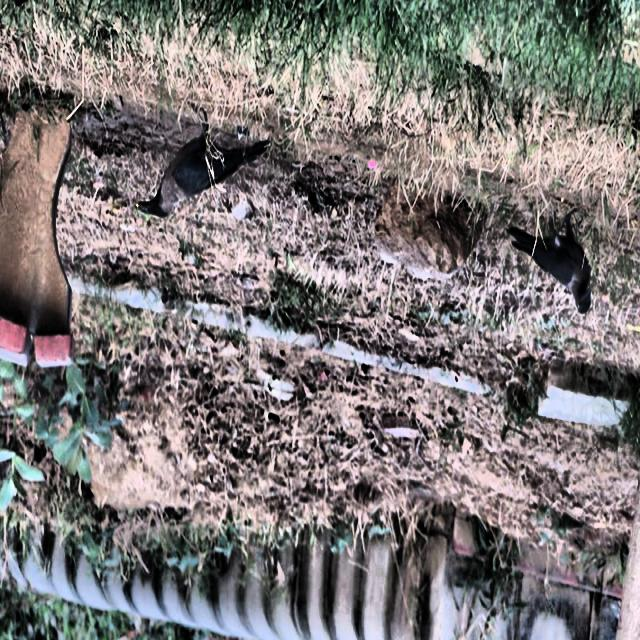crow: (135, 103, 276, 227), (512, 220, 610, 328)
